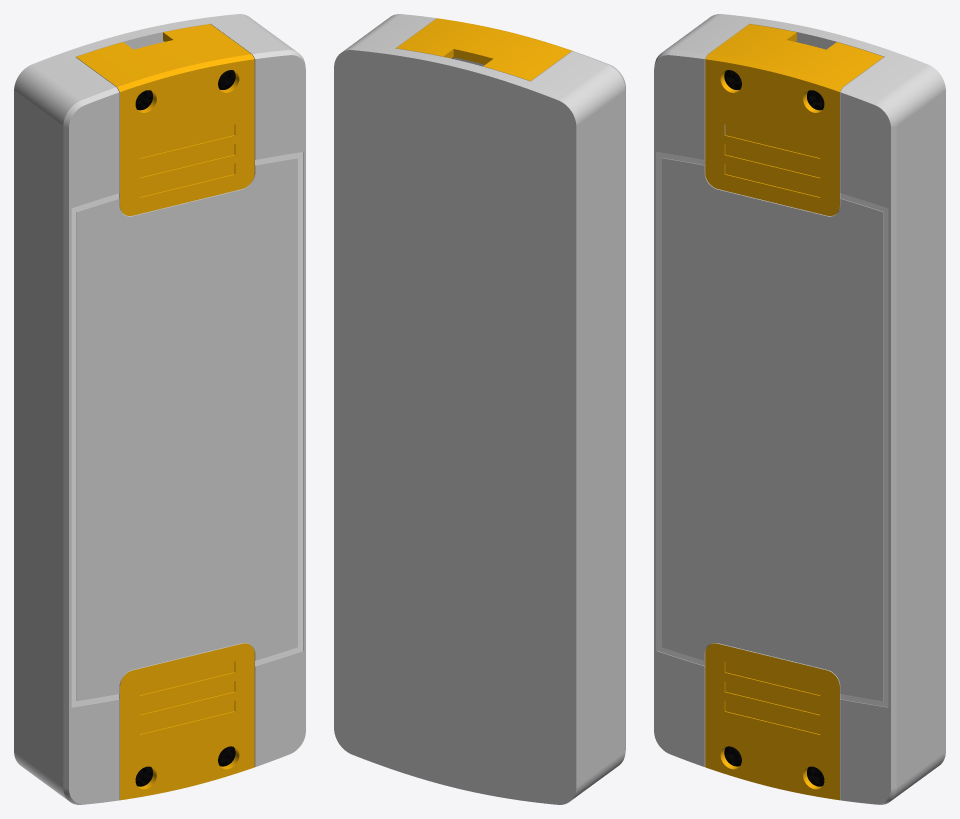
Rendered from powersupply.gltf.
3 views of the same model, side by side, from view 1: azimuth 30°, elevation 25°; view 2: azimuth 150°, elevation 25°; view 3: azimuth 330°, elevation 25° (orthographic).
Parts seen in each view (by area): view 1: Netzteil; view 2: Netzteil; view 3: Netzteil.
Part boxes in pixels (x1,y1,x2,y2): Netzteil: (14, 14, 305, 804); Netzteil: (334, 14, 625, 804); Netzteil: (654, 14, 945, 804).
Bounding box in the file's own units: 45.5 × 129 × 17.
